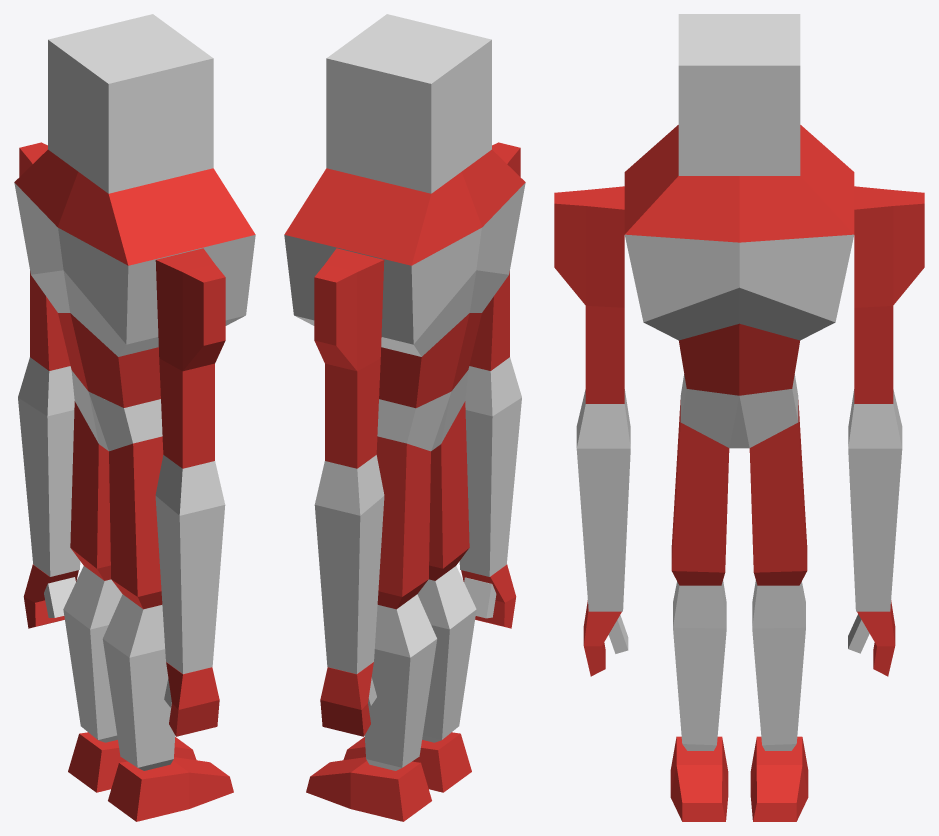
The model's file is Roboto_FBX.fbx.
3 views of the same model, side by side, from view 1: azimuth 30°, elevation 25°; view 2: azimuth 150°, elevation 25°; view 3: azimuth 270°, elevation 25° (orthographic).
Visible parts, largest first — view 1: Head, Neck, Chest, R_Arm, R_AvantArm, L_AvantArm, L_Leg_Inf.001, R_Leg_Sup, L_Leg_Inf, L_Toe.001, L_Leg_Sup, Belly (+6 smaller); view 2: Head, Neck, Chest, L_Arm, L_AvantArm, R_AvantArm, L_Leg_Inf, L_Leg_Sup, L_Leg_Inf.001, L_Toe, R_Leg_Sup, Belly (+6 smaller); view 3: Head, Chest, Neck, L_Arm, R_Arm, L_AvantArm, R_AvantArm, R_Leg_Sup, L_Leg_Sup, L_Leg_Inf.001, L_Leg_Inf, Belly (+5 smaller).
Boxes of the visible parts, x1,y1,x2,y2 form: Head: [48, 14, 213, 193]; Neck: [14, 149, 255, 265]; Chest: [14, 183, 255, 356]; R_Arm: [155, 248, 225, 468]; R_AvantArm: [155, 455, 225, 674]; L_AvantArm: [18, 357, 80, 576]; L_Leg_Inf.001: [102, 594, 175, 770]; R_Leg_Sup: [109, 436, 163, 609]; L_Leg_Inf: [63, 566, 122, 742]; L_Toe.001: [108, 757, 233, 821]; L_Leg_Sup: [70, 401, 110, 580]; Belly: [58, 313, 160, 407]; Head: [326, 14, 491, 193]; Neck: [284, 149, 525, 265]; Chest: [284, 183, 525, 356]; L_Arm: [314, 248, 384, 468]; L_AvantArm: [314, 455, 384, 674]; R_AvantArm: [459, 357, 521, 576]; L_Leg_Inf: [364, 594, 437, 770]; L_Leg_Sup: [376, 436, 430, 609]; L_Leg_Inf.001: [417, 566, 476, 742]; L_Toe: [306, 757, 431, 821]; R_Leg_Sup: [429, 401, 469, 580]; Belly: [379, 313, 481, 408]; Head: [678, 14, 800, 175]; Chest: [625, 234, 853, 340]; Neck: [624, 125, 854, 242]; L_Arm: [854, 186, 924, 403]; R_Arm: [554, 186, 624, 403]; L_AvantArm: [848, 389, 902, 611]; R_AvantArm: [576, 389, 630, 611]; R_Leg_Sup: [671, 400, 729, 585]; L_Leg_Sup: [749, 400, 807, 585]; L_Leg_Inf.001: [673, 580, 726, 750]; L_Leg_Inf: [752, 580, 805, 750]; Belly: [679, 323, 799, 395].
Bounding box in the file's own units: 212 × 949 × 428.
